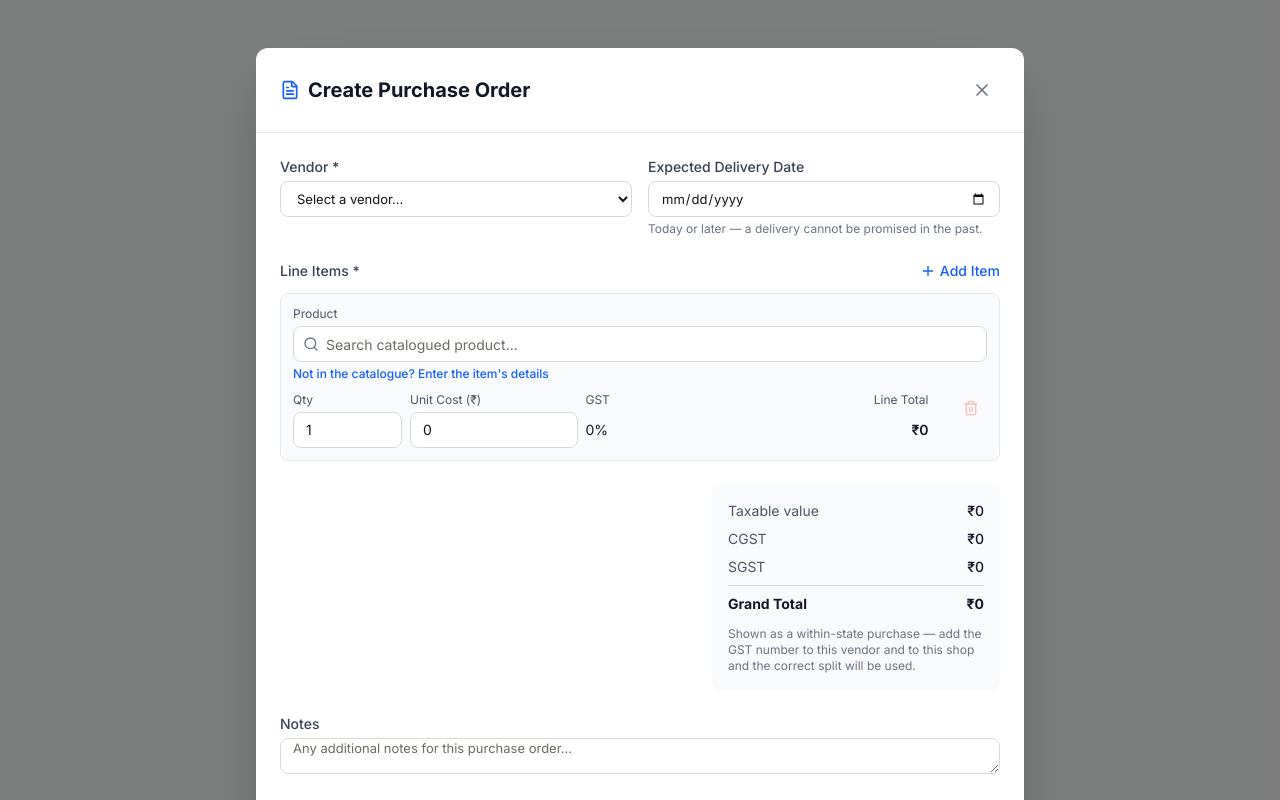
Test: Create PO screen shows the tax head the server resolved › server true: IGST
Select "Universal Optics (SUP004)" in the dropdown named "Vendor". click: (456, 199)
box: x1=280 y1=181 x2=632 y2=217
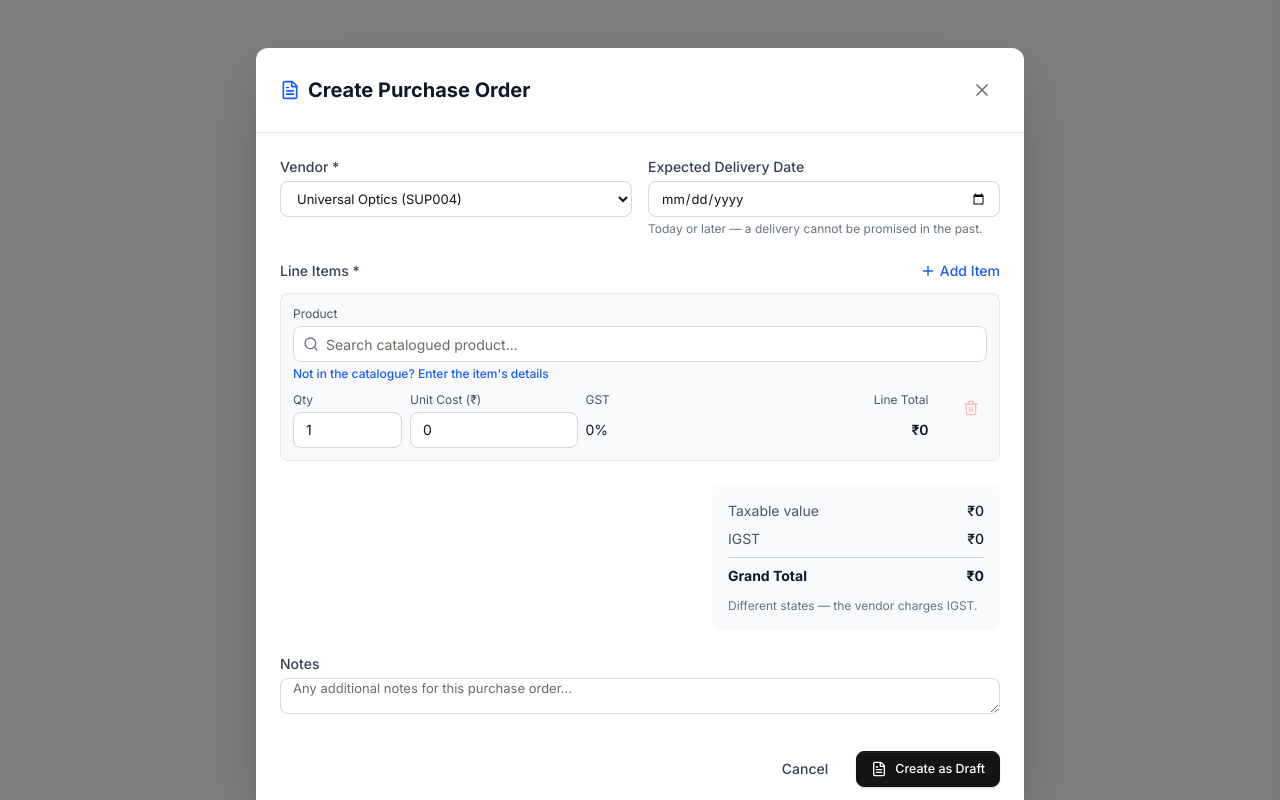
expect the text "Different states — the vendor charges IGST." is shown: met, box x1=728 y1=594 x2=984 y2=614
expect the text "IGST" is shown: met, box x1=728 y1=529 x2=760 y2=549
